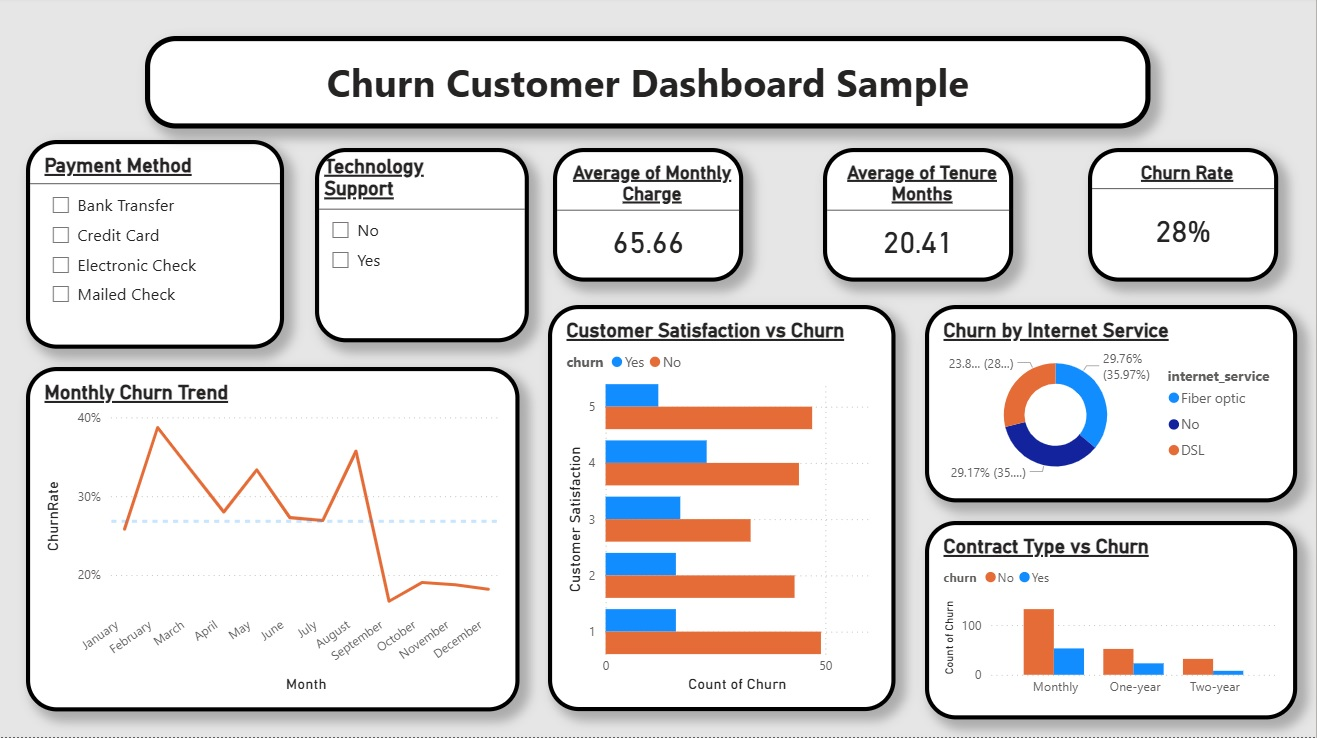

The dashboard page shown, as its layout file describes it:
{"tool":"powerbi","page":{"name":"Page 1","canvas":[1280,720],"ordinal":0},"visuals":[{"type":"card","title":"Churn Rate","fields":{"Values":["Table.ChurnRate"]},"box":[1058.2,146.9,184.8,130.3],"z":0},{"type":"card","title":"Average of Monthly Charge","fields":{"Values":["Avg(churn_dataset.monthly_charges)"]},"box":[537.9,146.9,184.8,130.3],"z":1000},{"type":"card","title":"Average of Tenure Months","fields":{"Values":["Avg(churn_dataset.tenure_months)"]},"box":[800.5,146.9,184.8,130.3],"z":2000},{"type":"lineChart","title":"Monthly Churn Trend","fields":{"Category":["churn_dataset.signup_date.Variation.Date Hierarchy.Month"],"Y":["Table.ChurnRate"]},"box":[25.3,359.9,480.5,334.6],"z":3000},{"type":"clusteredColumnChart","title":"Contract Type vs Churn","fields":{"Category":["churn_dataset.contract_type"],"Y":["CountNonNull(churn_dataset.churn)"],"Series":["churn_dataset.churn"]},"box":[899.7,509.7,361.8,192.6],"z":4000},{"type":"clusteredBarChart","title":"Customer Satisfaction vs Churn","fields":{"Category":["churn_dataset.customer_satisfaction"],"Y":["CountNonNull(churn_dataset.churn)"],"Series":["churn_dataset.churn"]},"box":[533,299.6,337.5,394.9],"z":5000},{"type":"donutChart","title":"Churn by Internet Service ","fields":{"Category":["churn_dataset.internet_service"],"Y":["Table.ChurnRate"]},"box":[899.7,299.6,361.8,191.6],"z":6000},{"type":"slicer","title":"Payment Method","fields":{"Values":["churn_dataset.payment_method"]},"box":[25.3,139.1,250.9,203.3],"z":7000},{"type":"textbox","box":[141,37.9,978.5,90.5],"z":8000},{"type":"slicer","title":"Technology Support","fields":{"Values":["churn_dataset.tech_support"]},"box":[306.4,146.9,208.1,188.7],"z":9000}]}

Visuals, with their boxes in screenshot pixels (x1, y1, x2, y2), scaled from the page's 1280x720 canvas onto the 1317x738 screenshot:
"Churn Rate" card: crop(1089, 151, 1279, 284)
"Average of Monthly Charge" card: crop(553, 151, 744, 284)
"Average of Tenure Months" card: crop(824, 151, 1014, 284)
"Monthly Churn Trend" lineChart: crop(26, 369, 520, 712)
"Contract Type vs Churn" clusteredColumnChart: crop(926, 522, 1298, 720)
"Customer Satisfaction vs Churn" clusteredBarChart: crop(548, 307, 896, 712)
"Churn by Internet Service " donutChart: crop(926, 307, 1298, 503)
"Payment Method" slicer: crop(26, 143, 284, 351)
textbox: crop(145, 39, 1152, 132)
"Technology Support" slicer: crop(315, 151, 529, 344)
